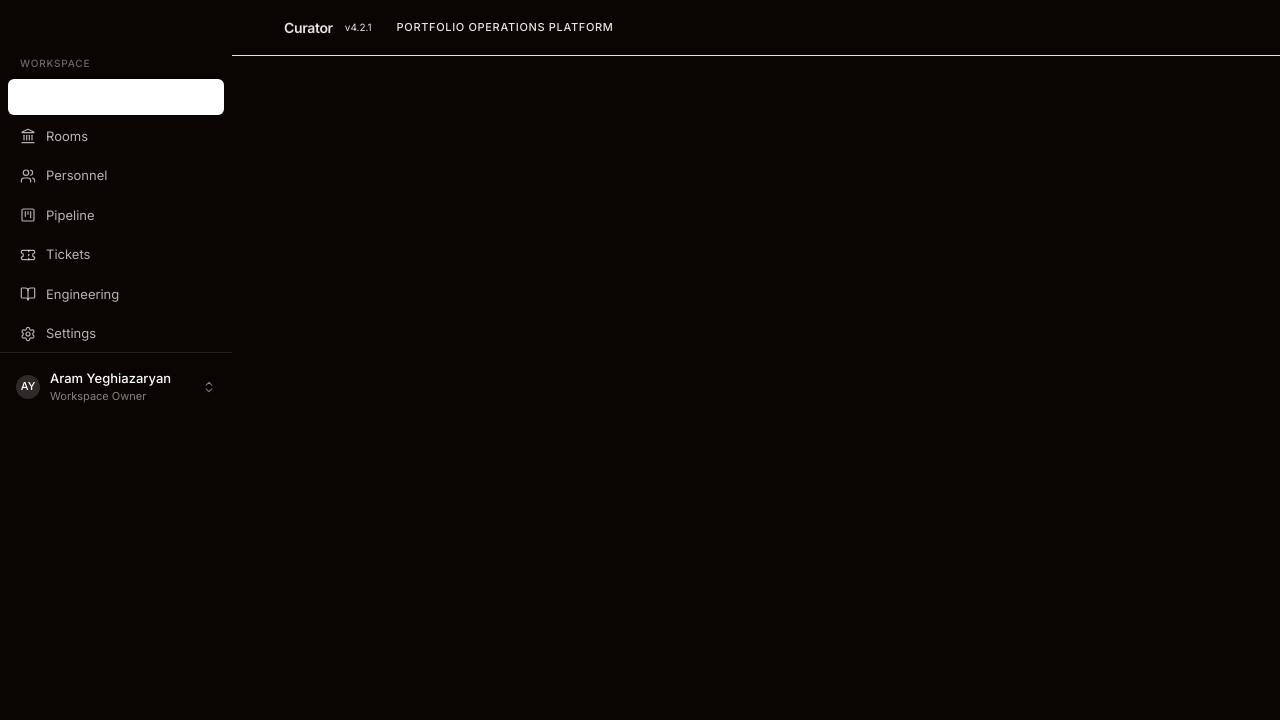
Test: AppShell user menu › closes on pointerdown outside the menu
The image size is (1280, 720).
Click the button "AY Aram Yeghiazaryan Workspace Owner".
click(116, 386)  # box [16, 364, 216, 408]
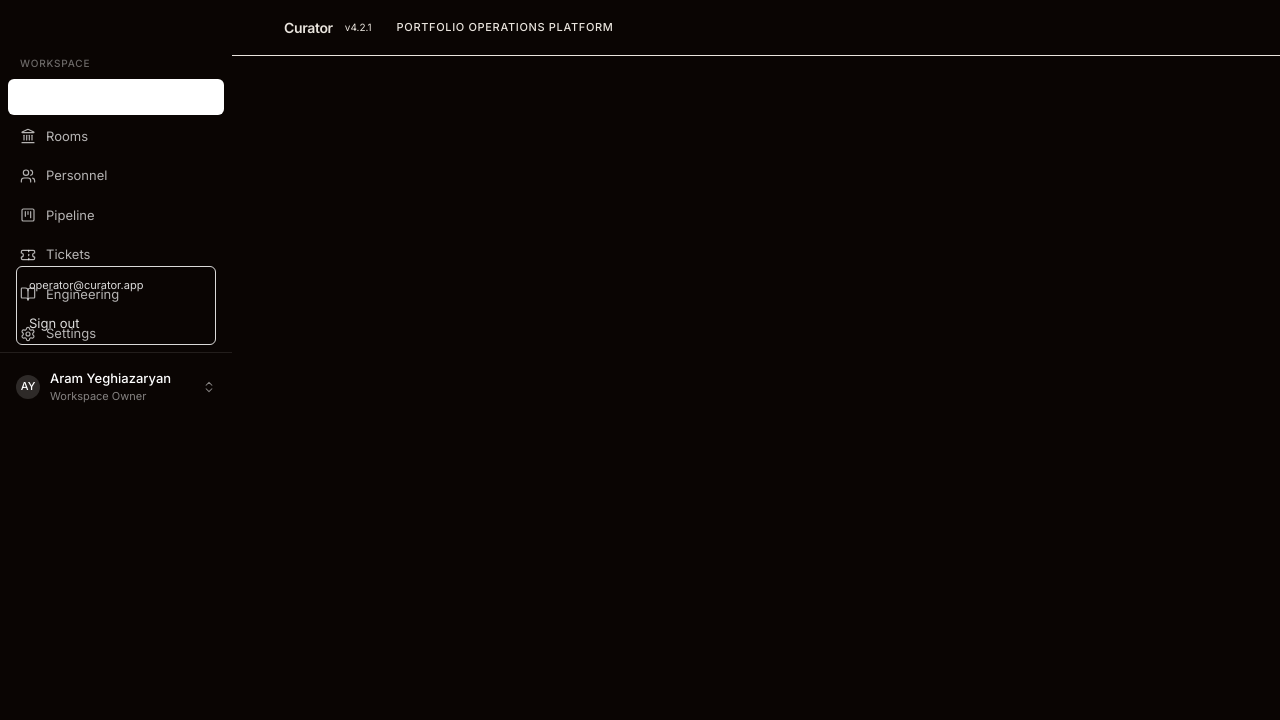
Now the text "operator@curator.app" is shown, box [29, 278, 143, 292]
Press the mouse on the element that starts with "Workspace" at (640, 360), box [0, 0, 1279, 719]
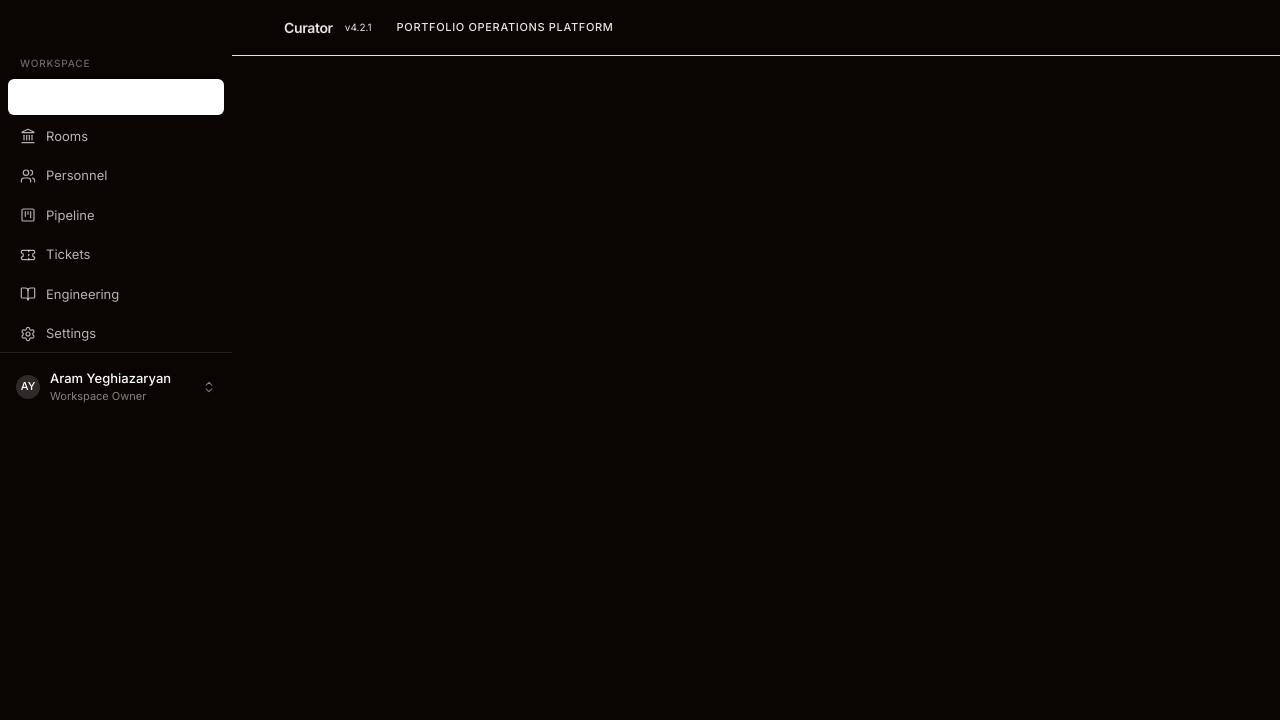
Now the text "operator@curator.app" is gone
